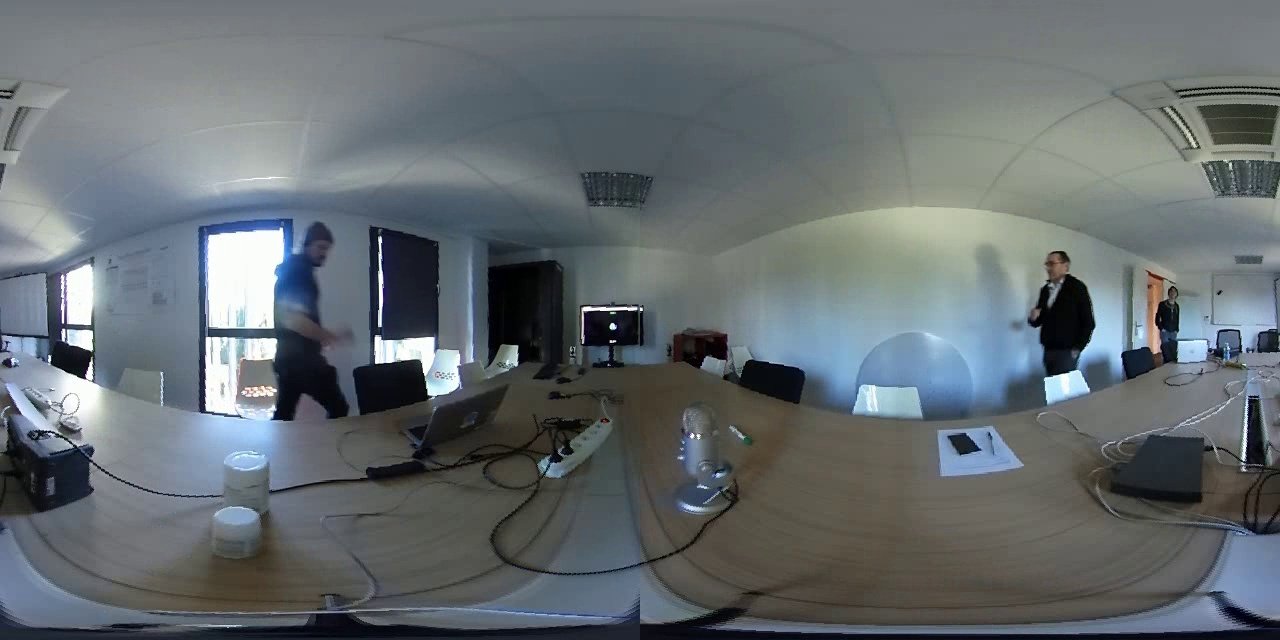person: (270, 216, 359, 412), (1025, 246, 1102, 368), (1152, 279, 1188, 343)
